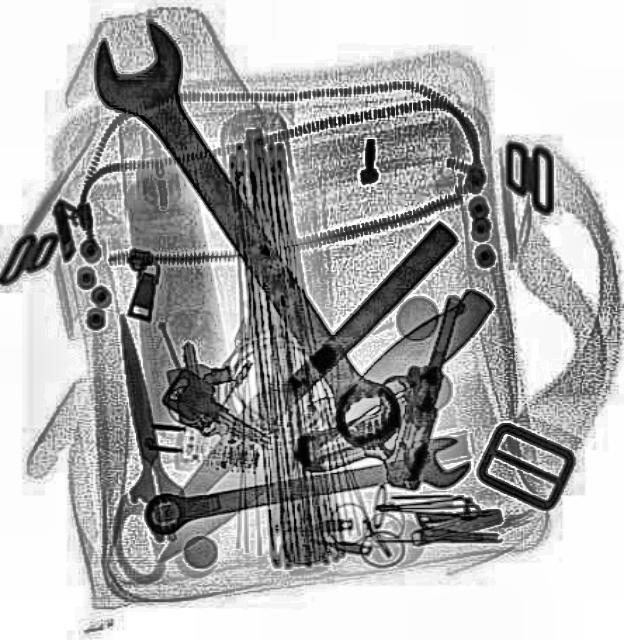Gun: (288, 271, 462, 491)
Knife: (142, 278, 504, 574), (147, 216, 459, 528), (95, 308, 183, 508)
Wrench: (70, 8, 425, 462), (138, 430, 476, 546)
